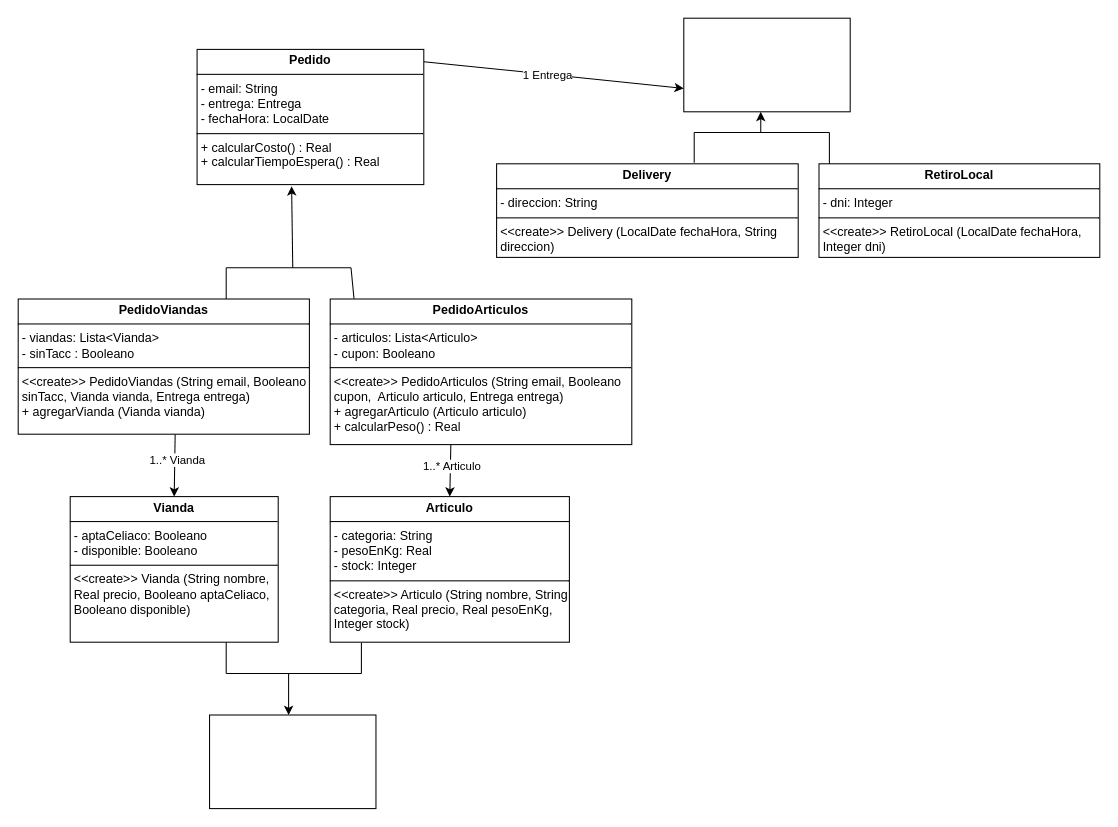
Image size: 1118x827. Some labels were removed from this diagram. The shapes that lost their labels are listed below. From the top down, each one's centre as x and y in pixels, then its label:
[766,64]: Entrega - fechaHora: LocalDate
[292,761]: Producto - nombre: String - precio: Real
